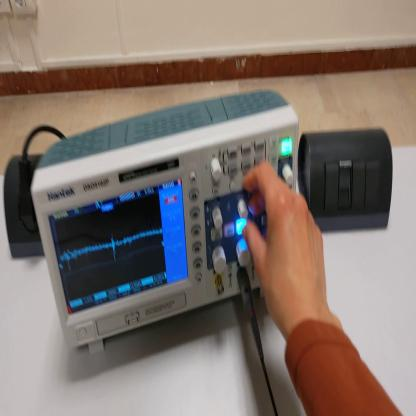hand: (241, 162, 329, 333)
oscilloscope: (35, 88, 299, 358)
socket: (6, 155, 46, 258)
